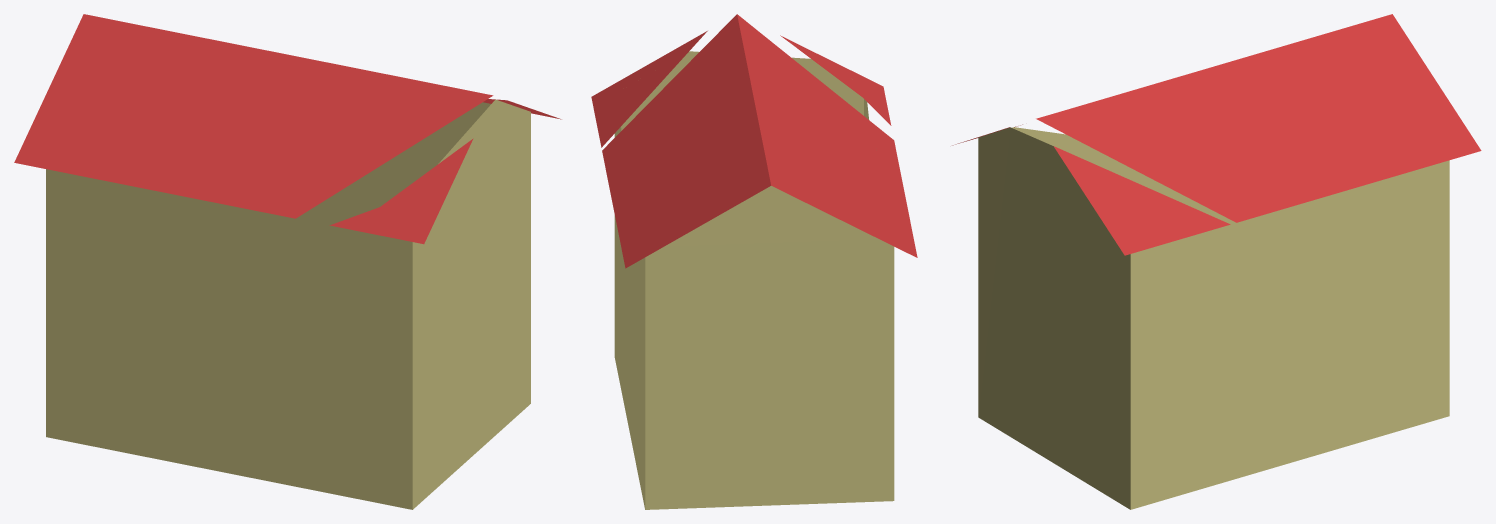
The picture shows the model from 3 angles, left to right: view 1: azimuth 30°, elevation 25°; view 2: azimuth 150°, elevation 25°; view 3: azimuth 270°, elevation 25°; orthographic projection. The views are drawn at different scales.
Bounding box in the file's own units: 10.99 × 11.66 × 8.43.
